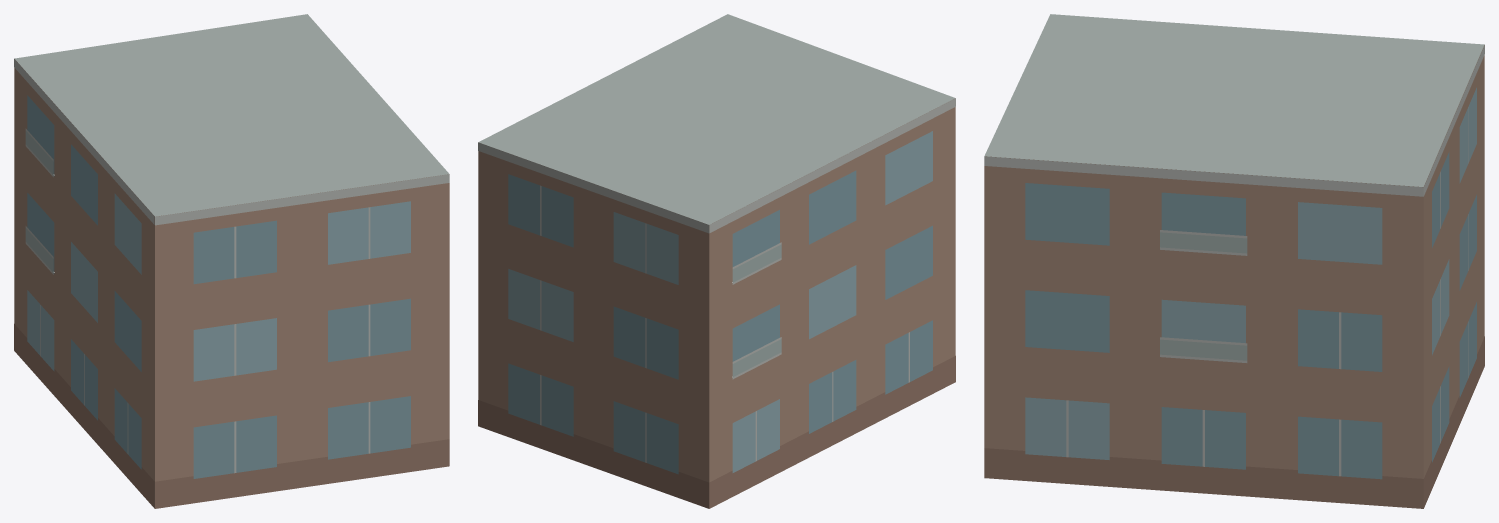
The model's file is survey-upis-32797001.glb.
3 renders of one model, left to right at view 1: azimuth 30°, elevation 25°; view 2: azimuth 150°, elevation 25°; view 3: azimuth 270°, elevation 25°, orthographic. The views are drawn at different scales.
Visible parts, largest first — view 1: survey-upis-32797001.tmp; view 2: survey-upis-32797001.tmp; view 3: survey-upis-32797001.tmp.
Boxes of the visible parts, <box> form: survey-upis-32797001.tmp: <box>14,14,449,508</box>; survey-upis-32797001.tmp: <box>478,14,955,508</box>; survey-upis-32797001.tmp: <box>984,14,1484,508</box>.
Bounding box in the file's own units: 9.35 × 8.1 × 11.43.
